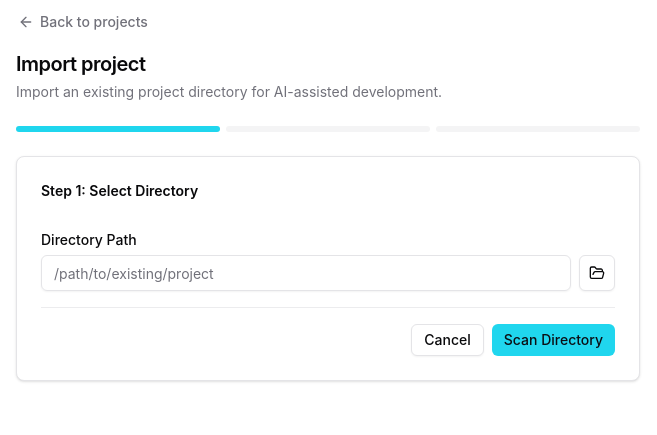
Test: ImportProjectPage native directory picker › shows why directory picking is unavailable
What coordinates should you click on to do the following:
click the button named "Browse"
I would click on:
 (597, 273)
Its box is 579,255 -> 615,291.
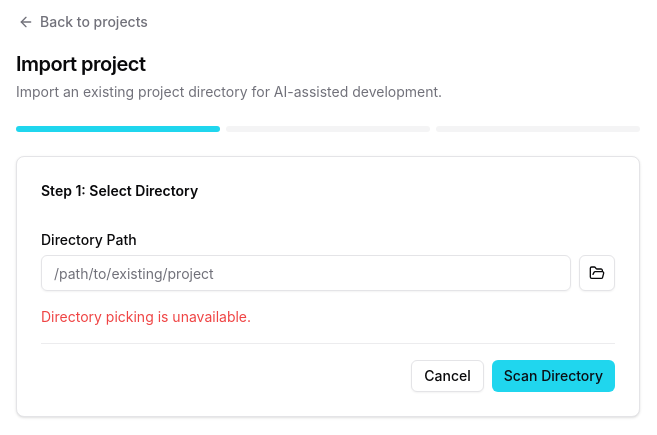
Check: the message reads "Directory picking is unavailable.", box 41,308 -> 251,325
